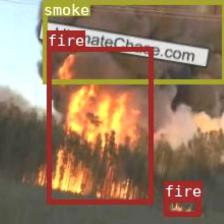fire: (45, 47, 152, 204), (163, 197, 200, 216)
smoke: (42, 0, 224, 83)
